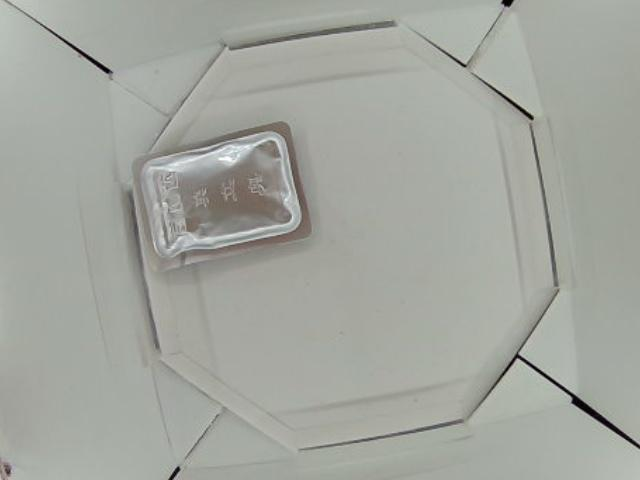Medicine: (135, 120, 311, 279)
